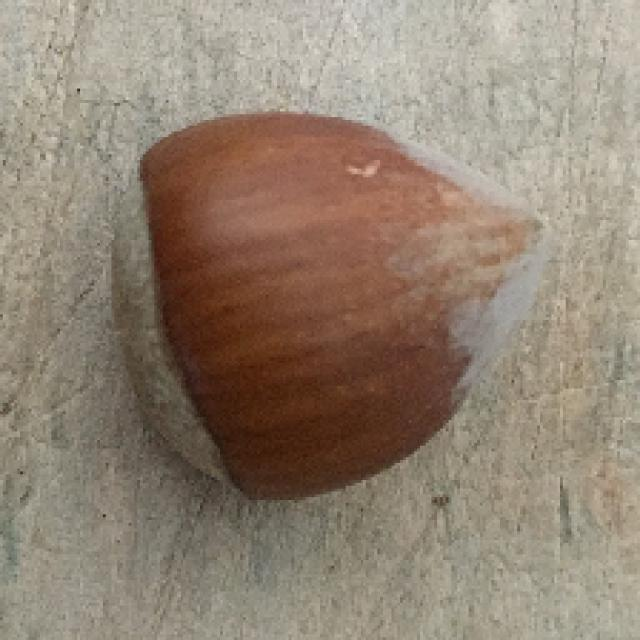qualityHazelnut: (92, 102, 549, 501)
